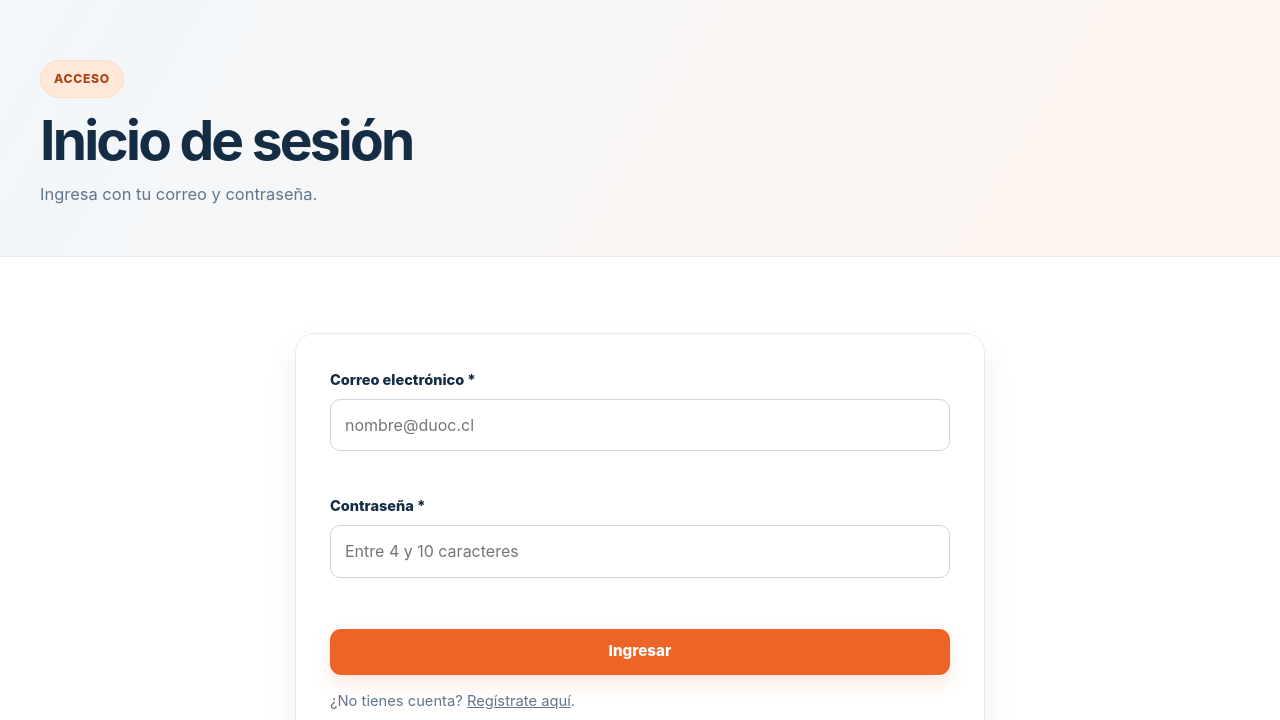
Login › muestra errores cuando se envía vacío
Click the button "Ingresar": (640, 652) [330,629,950,675]
(page scrolled)
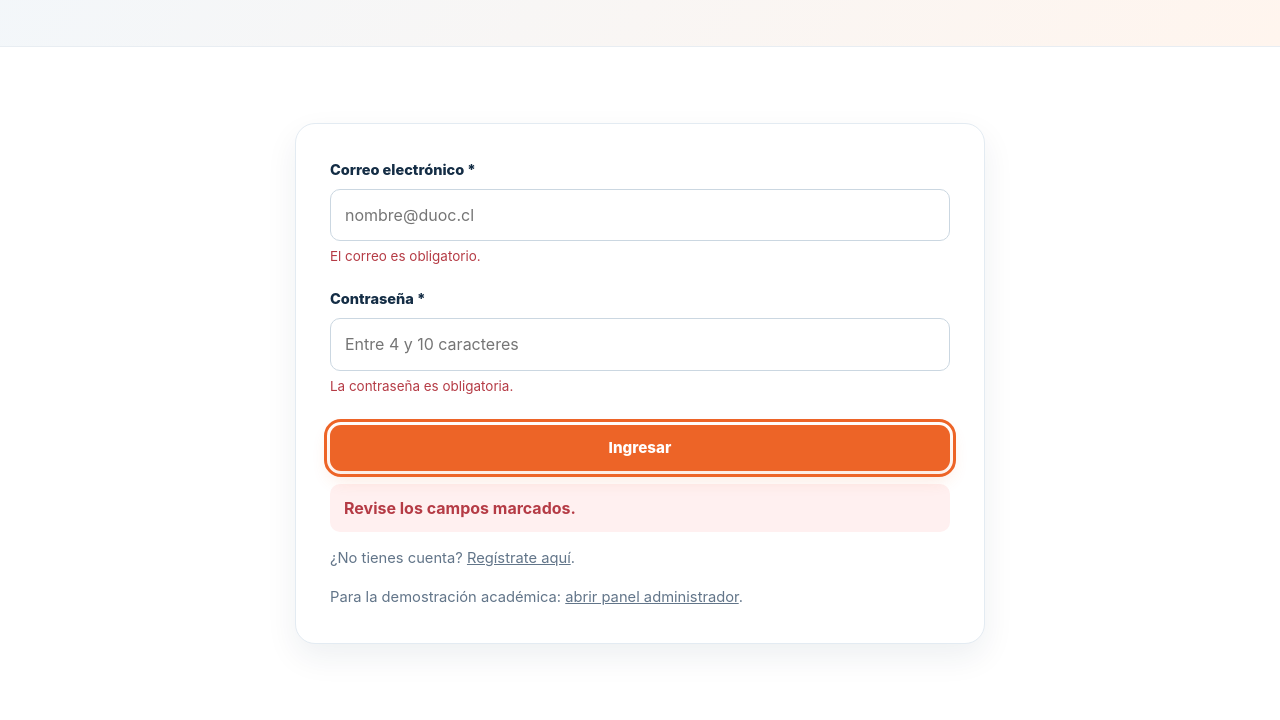
Expected: the text "El correo es obligatorio." is shown, [330,248,481,264]
Expected: the text "La contraseña es obligatoria." is shown, [330,378,513,394]
Expected: the text "Revise los campos marcados." is shown, [330,484,950,532]
